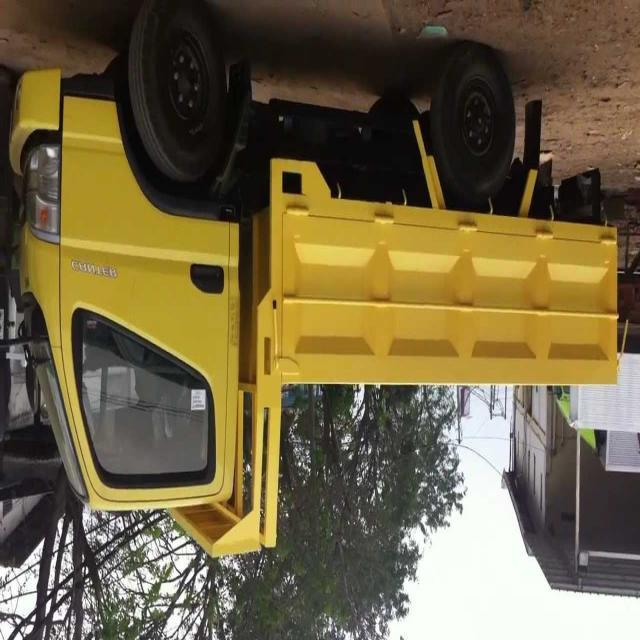truck: (9, 12, 615, 568)
